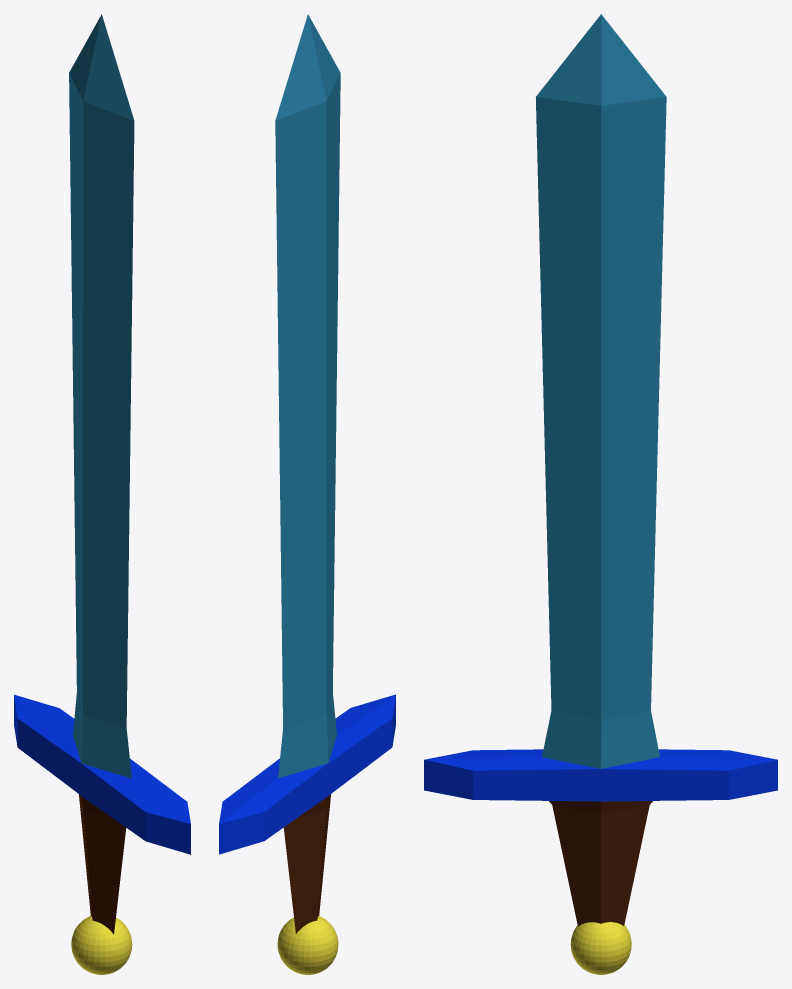
File: SimpleSword.fbx
3 renders of one model, left to right at view 1: azimuth 30°, elevation 25°; view 2: azimuth 150°, elevation 25°; view 3: azimuth 270°, elevation 25°, orthographic.
Visible parts, largest first — view 1: Cube; view 2: Cube; view 3: Cube.
Part boxes in pixels (box(x1,y1,x2,y2)): Cube: box(14, 14, 190, 974); Cube: box(219, 14, 395, 974); Cube: box(424, 14, 777, 974).
Size of the model in its own units: 90.94 by 1573 by 527.
